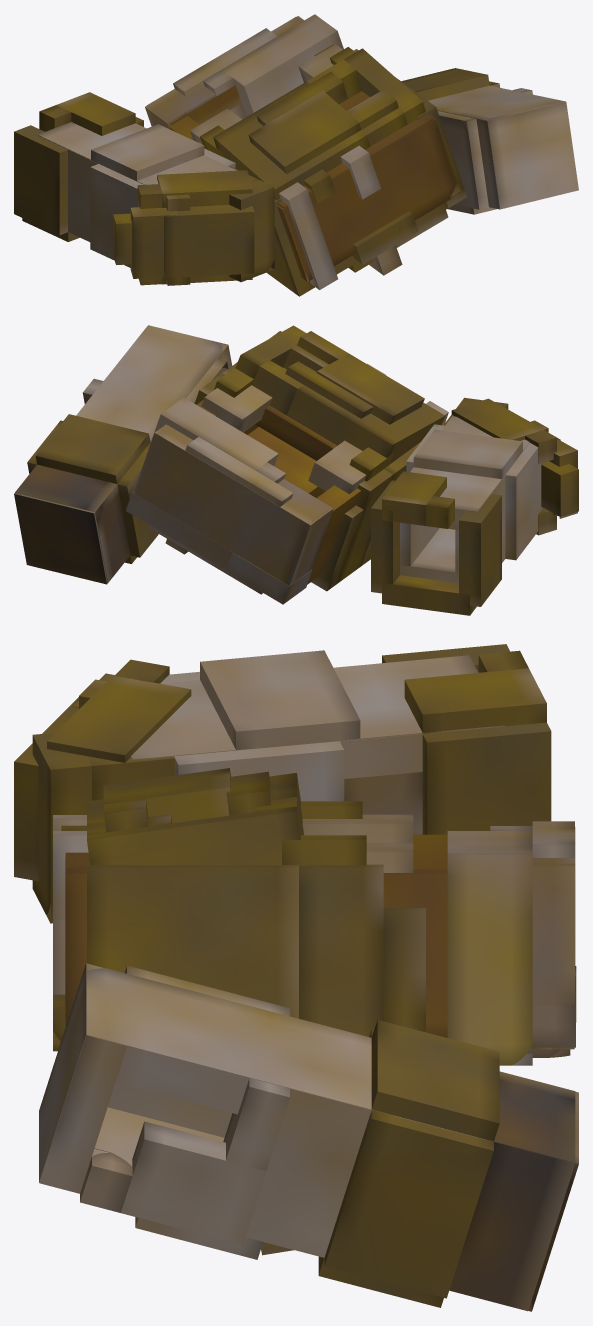
File: t51_chestplate_broken.obj
3 views of the same model, one above another, from view 1: azimuth 30°, elevation 25°; view 2: azimuth 150°, elevation 25°; view 3: azimuth 270°, elevation 25° (orthographic). The views are drawn at different scales.
Parts seen in each view (by area): view 1: Body; view 2: Body; view 3: Body.
Part boxes in pixels (x1,y1,x2,y2): Body: (14,14,578,296); Body: (14,325,578,615); Body: (14,644,578,1311).
Size of the model in its own units: 1.43 by 0.5961 by 0.8327.
